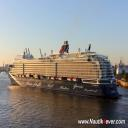cruises: (8, 41, 123, 101)
